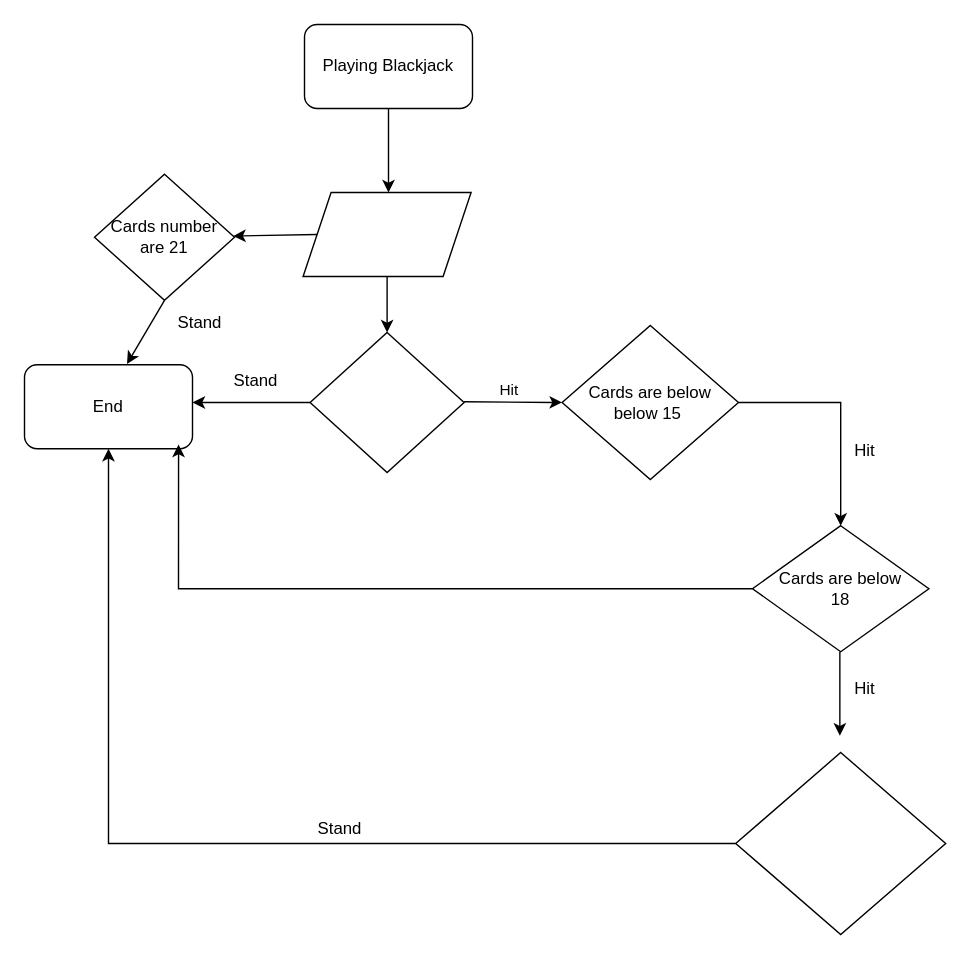
This 970x959 diagram has some shape labels left out. Here are the shapes that lost their labels. From the top down, the centre of each, then its label:
At pixel 386 233: "Draw Cards".
At pixel 386 401: "Cards are below 10".
At pixel 840 842: "Cards are less than or equal to 20 and greater than 18".
